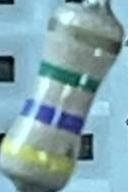Blue: (19, 98, 85, 135)
Green: (37, 60, 100, 94)
Side-Silver: (45, 16, 122, 55)
Yellow: (1, 135, 74, 178)
